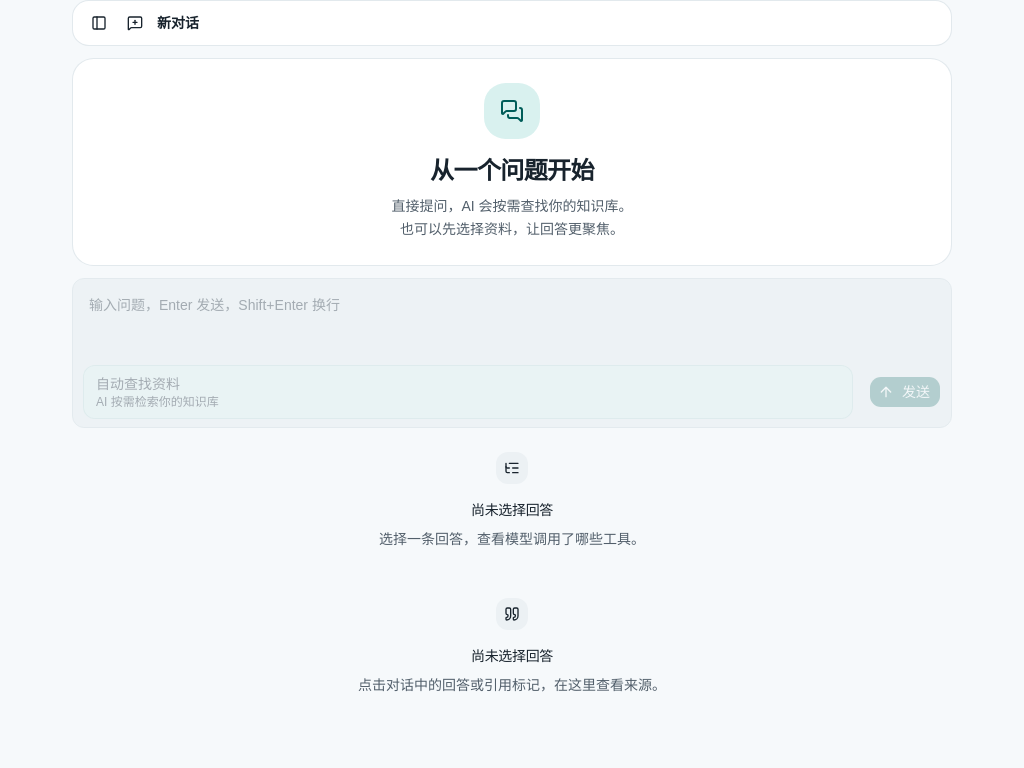
Scenario: ChatView streaming › searches and renames a conversation through the server
The image size is (1024, 768).
Click the button named "展开会话列表": (99,23) [85,9,113,37]
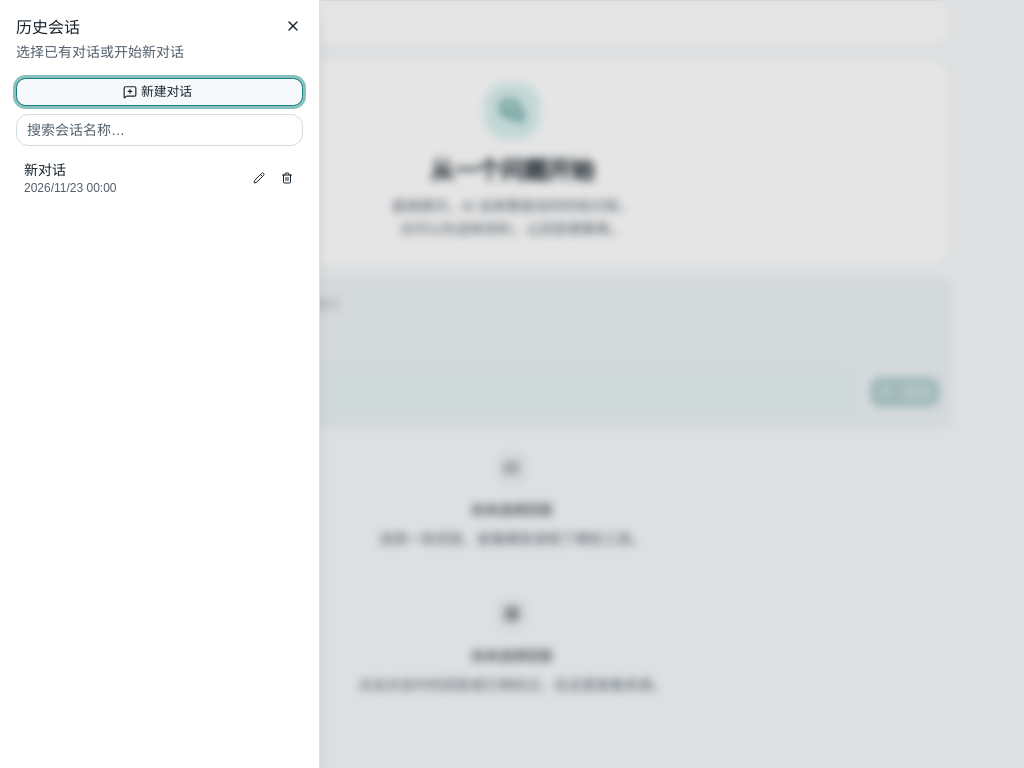
Click the button named "重命名对话 新对话": (259,178) [247,166,271,190]
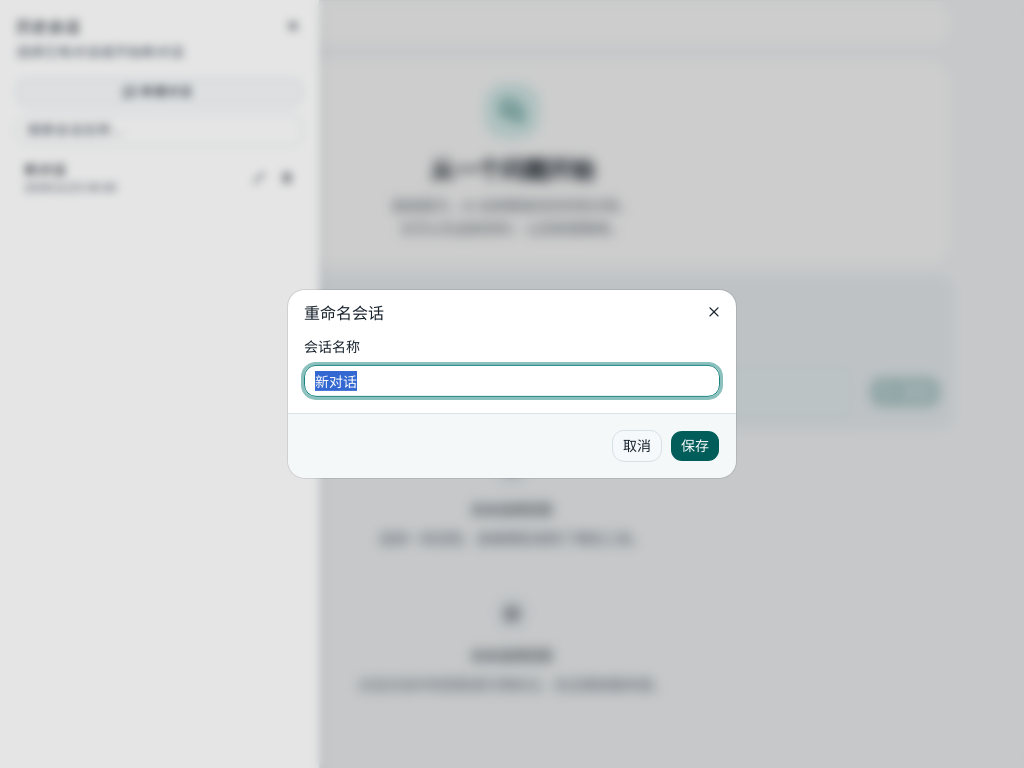
Replace the text in the field labelled "会话名称" with "重命名后的会话": (512,381) [304,365,720,397]
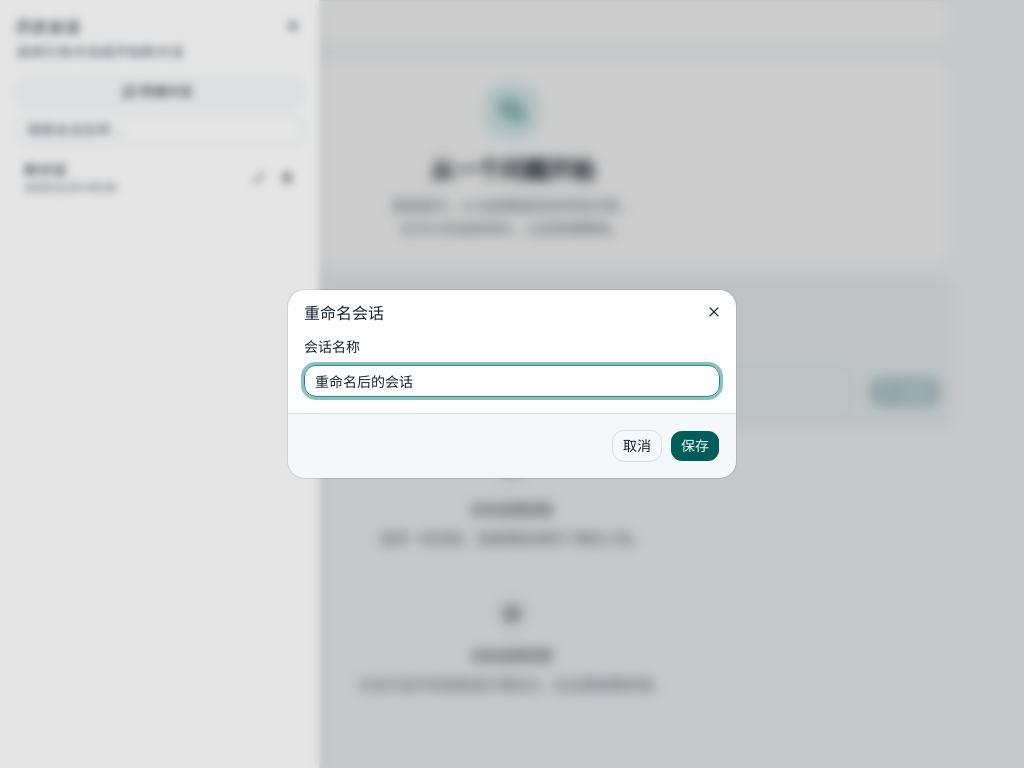
Click the button "保存": (695,446) [670,430,720,462]
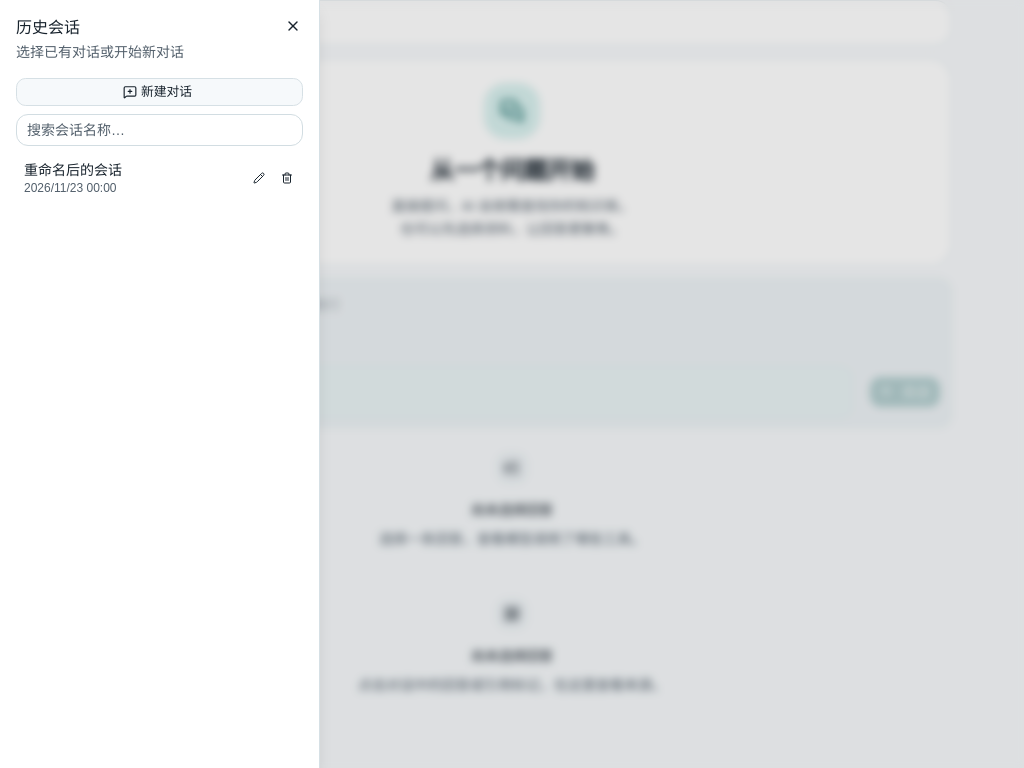
Result: the button named "重命名对话 重命名后的会话" is shown at [247,166,271,190]
In the field named "搜索历史会话": (160,130) [16,114,303,146], type "不存在的标题"
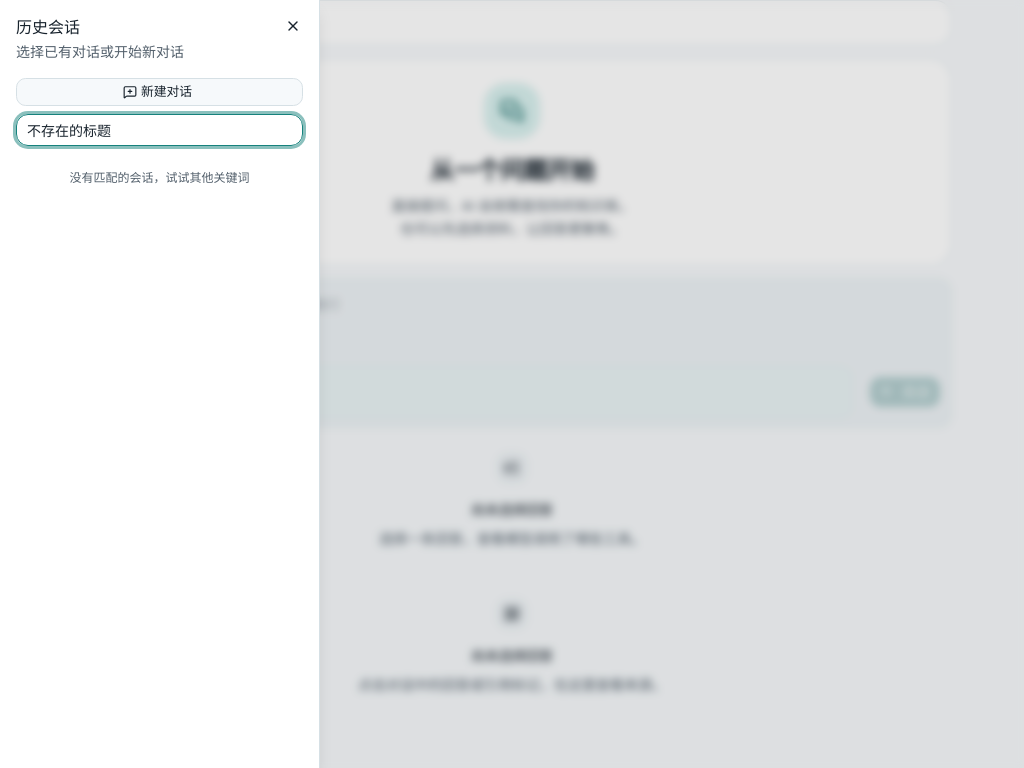
Result: the list item "没有匹配的会话，试试其他关键词" is shown at [70,171,250,185]
